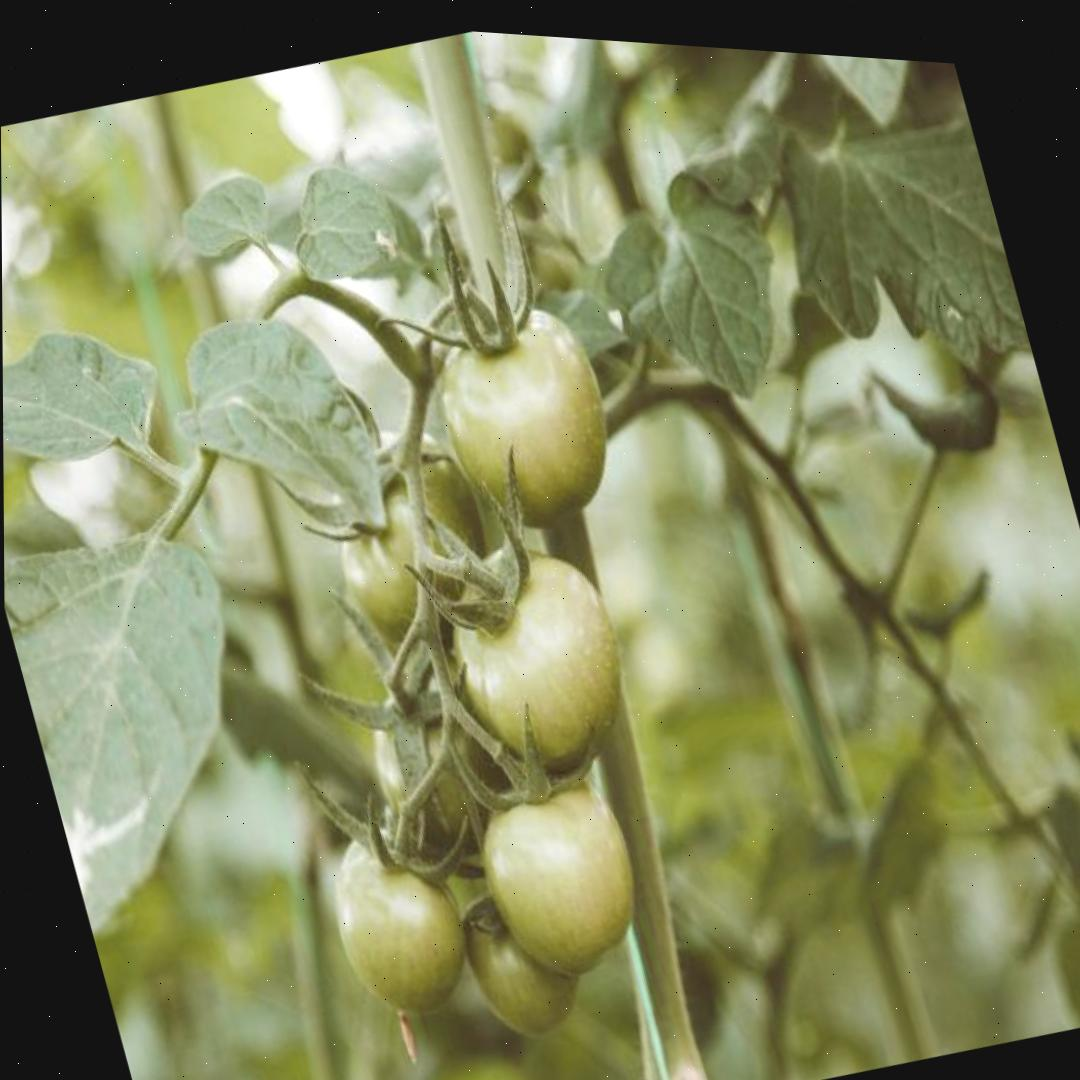mentah: (423, 516, 651, 807), (419, 286, 632, 547), (463, 766, 659, 994), (314, 808, 486, 1038)
